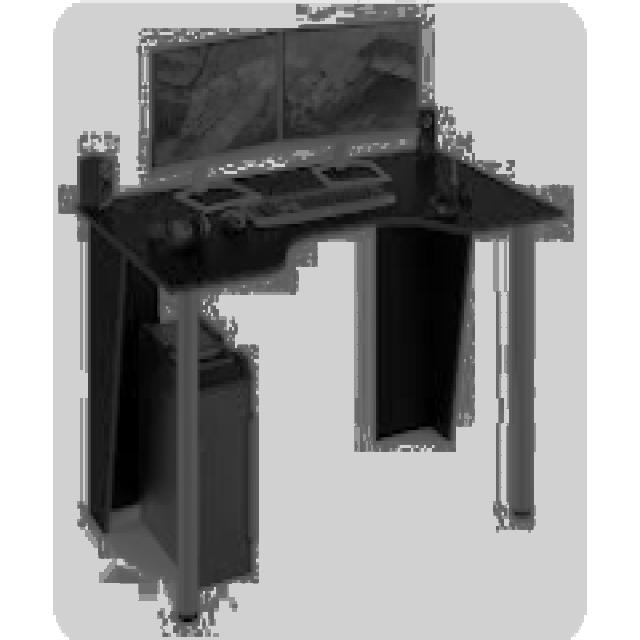table: (72, 142, 565, 619)
